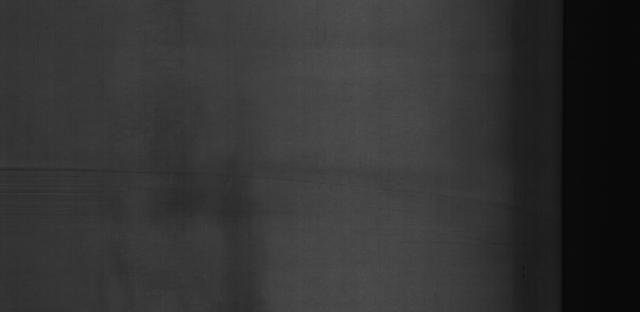crease: (11, 156, 255, 186)
